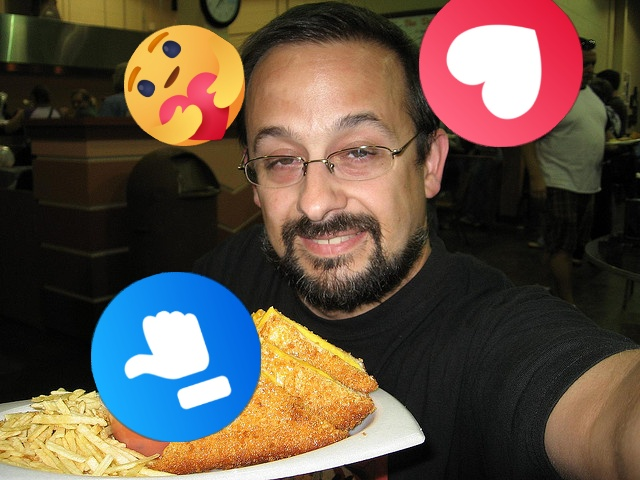care: (124, 25, 245, 146)
like: (91, 272, 261, 442)
love: (419, 0, 583, 147)
